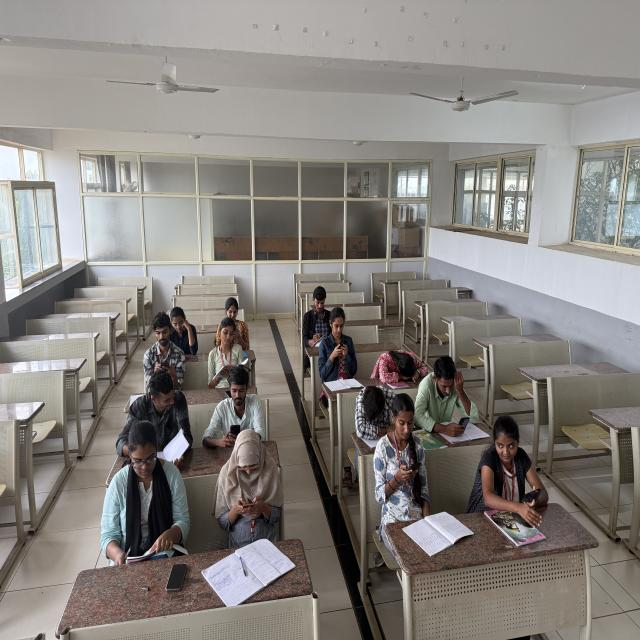Reading: (99, 428, 198, 564), (202, 322, 254, 387)
Sleeping: (351, 378, 402, 444), (371, 342, 435, 386)
Using Phone: (214, 433, 295, 542), (474, 409, 556, 515), (378, 396, 440, 516), (413, 350, 482, 434), (201, 367, 271, 446), (138, 314, 186, 388), (315, 311, 360, 381)
Writing: (298, 287, 334, 352)
